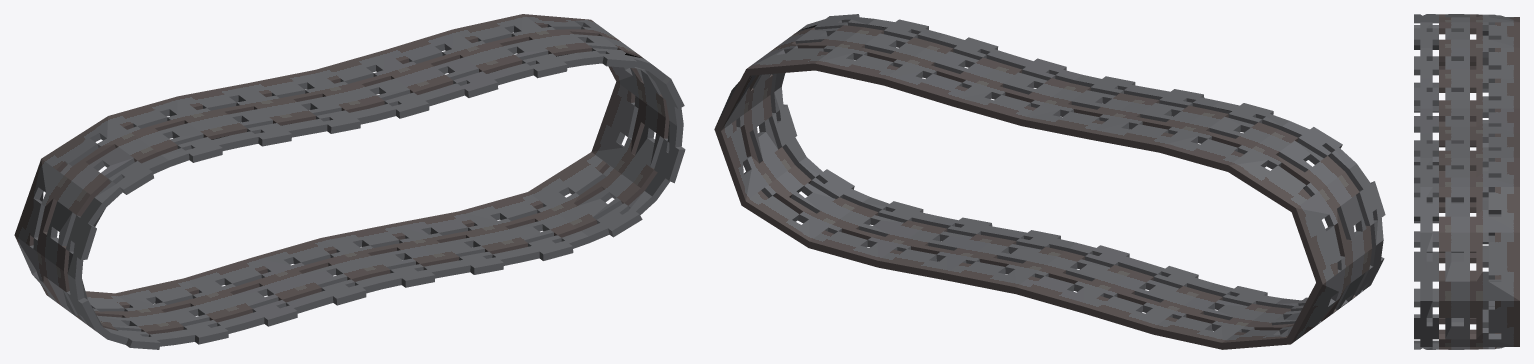
The model's file is 1 track .fbx.
The picture shows the model from 3 angles, left to right: view 1: azimuth 30°, elevation 25°; view 2: azimuth 150°, elevation 25°; view 3: azimuth 270°, elevation 25°; orthographic projection. The views are drawn at different scales.
Parts seen in each view (by area): view 1: Untitled; view 2: Untitled; view 3: Untitled.
Boxes of the visible parts, x1,y1,x2,y2 form: Untitled: (14, 14, 685, 349); Untitled: (714, 14, 1385, 349); Untitled: (1414, 14, 1519, 349).
Bounding box in the file's own units: 1306 × 393 × 240.
1 material, 1 textured.
